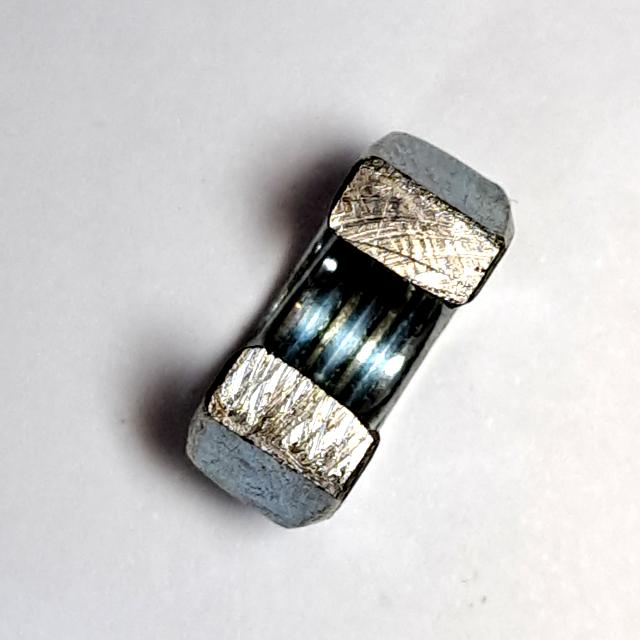Side-Fracture: (177, 121, 525, 542)
